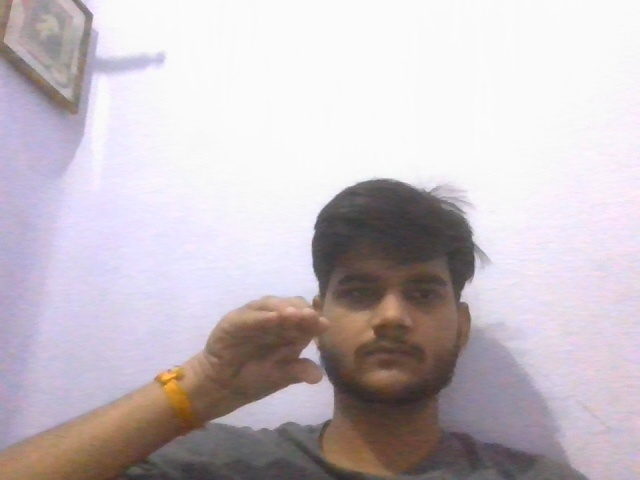sorry: (210, 282, 332, 413)
